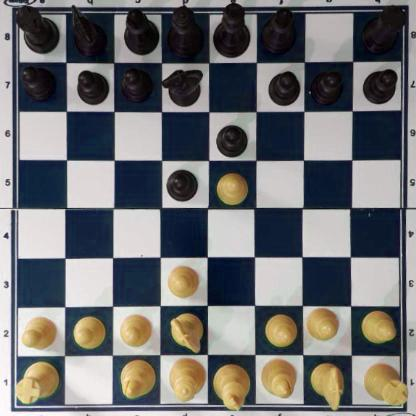black-bishop: (260, 4, 297, 55), (123, 7, 159, 54)
black-king: (211, 3, 251, 58)
black-knight: (71, 3, 106, 56), (161, 69, 203, 102)
black-pawn: (120, 66, 155, 104), (362, 67, 397, 104), (21, 65, 56, 101), (215, 121, 249, 157), (311, 67, 343, 103), (76, 67, 107, 104), (268, 71, 299, 105), (166, 168, 198, 200)
black-queen: (167, 5, 205, 56)
black-rook: (14, 5, 60, 52), (360, 6, 403, 53)
white-bishop: (261, 358, 296, 400), (119, 358, 154, 399)
white-king: (213, 361, 247, 410)
white-knight: (311, 361, 344, 411), (170, 311, 204, 353)
white-pawn: (19, 315, 59, 349), (166, 263, 200, 298), (118, 312, 152, 347), (361, 310, 397, 343), (72, 315, 105, 348), (263, 313, 296, 346), (307, 307, 339, 341), (215, 171, 249, 203)
white-queen: (165, 357, 208, 401)
white-rook: (14, 360, 59, 403), (362, 362, 407, 405)
